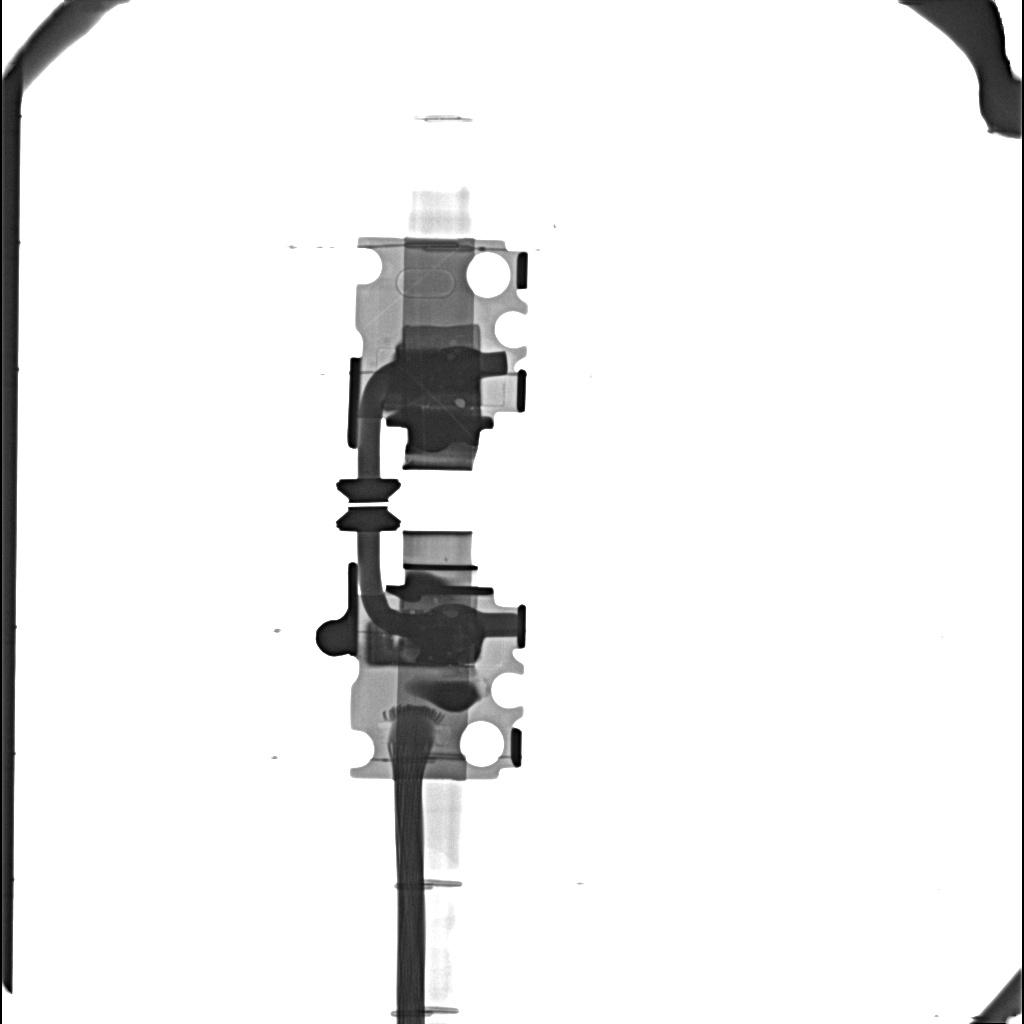PX: (402, 324, 481, 348)
QP: (454, 397, 466, 408)
SX: (393, 351, 480, 398), (408, 611, 482, 665)
